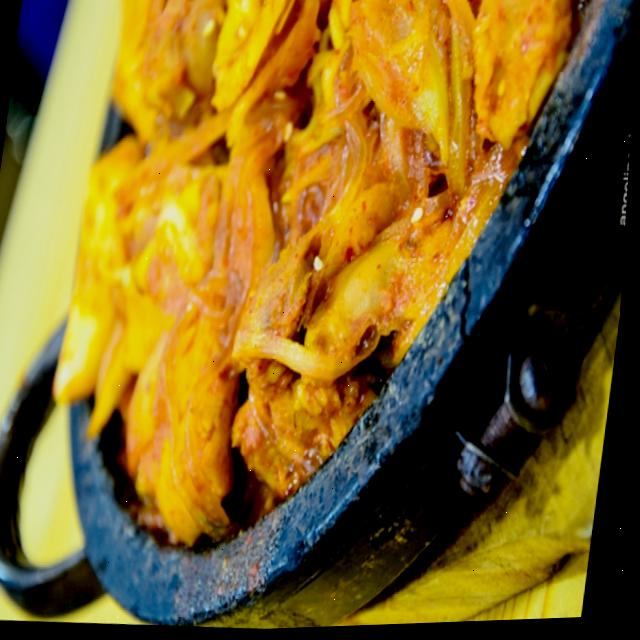鸡肉料理 含炸鸡: (33, 0, 587, 552)
